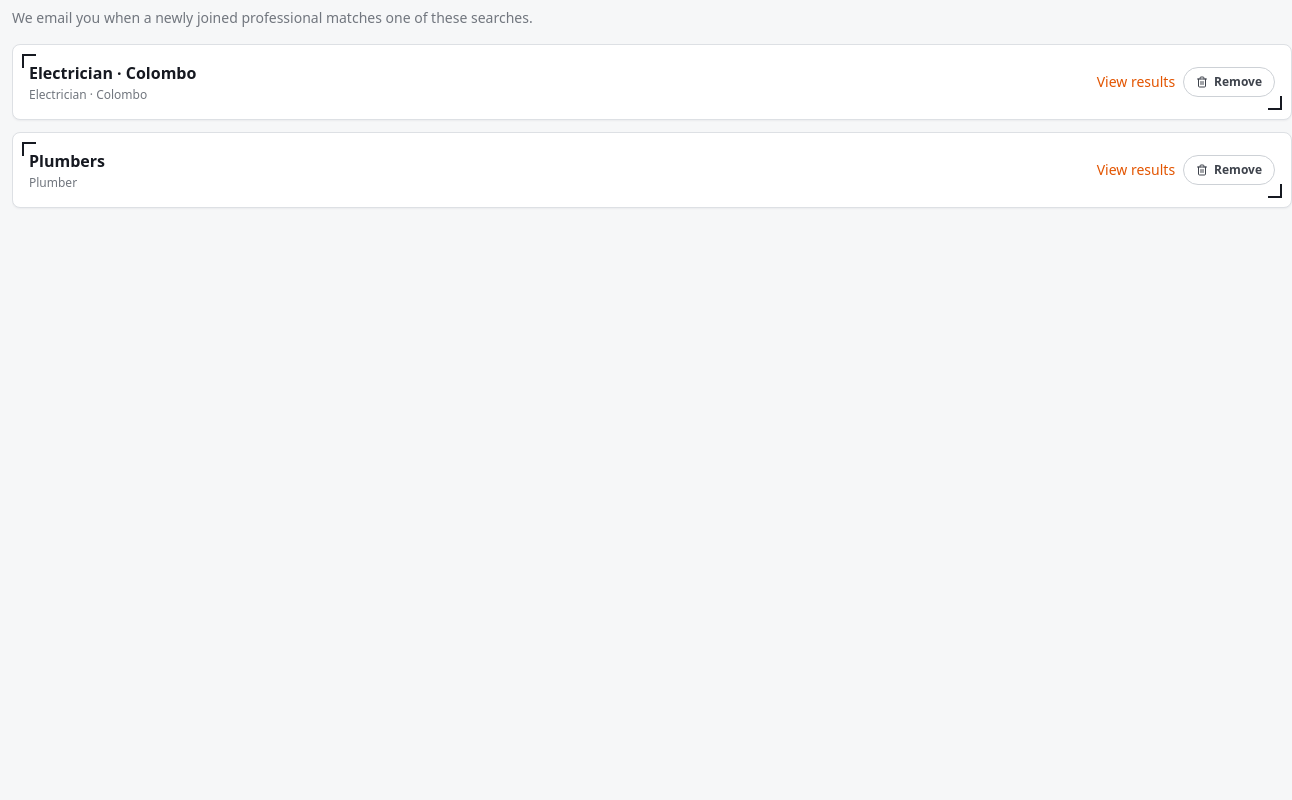
SavedSearches › restores the row and toasts on a failed delete
Click the button "Remove" in the row of "Plumbers" at [1229, 170], box [1183,155,1275,185]
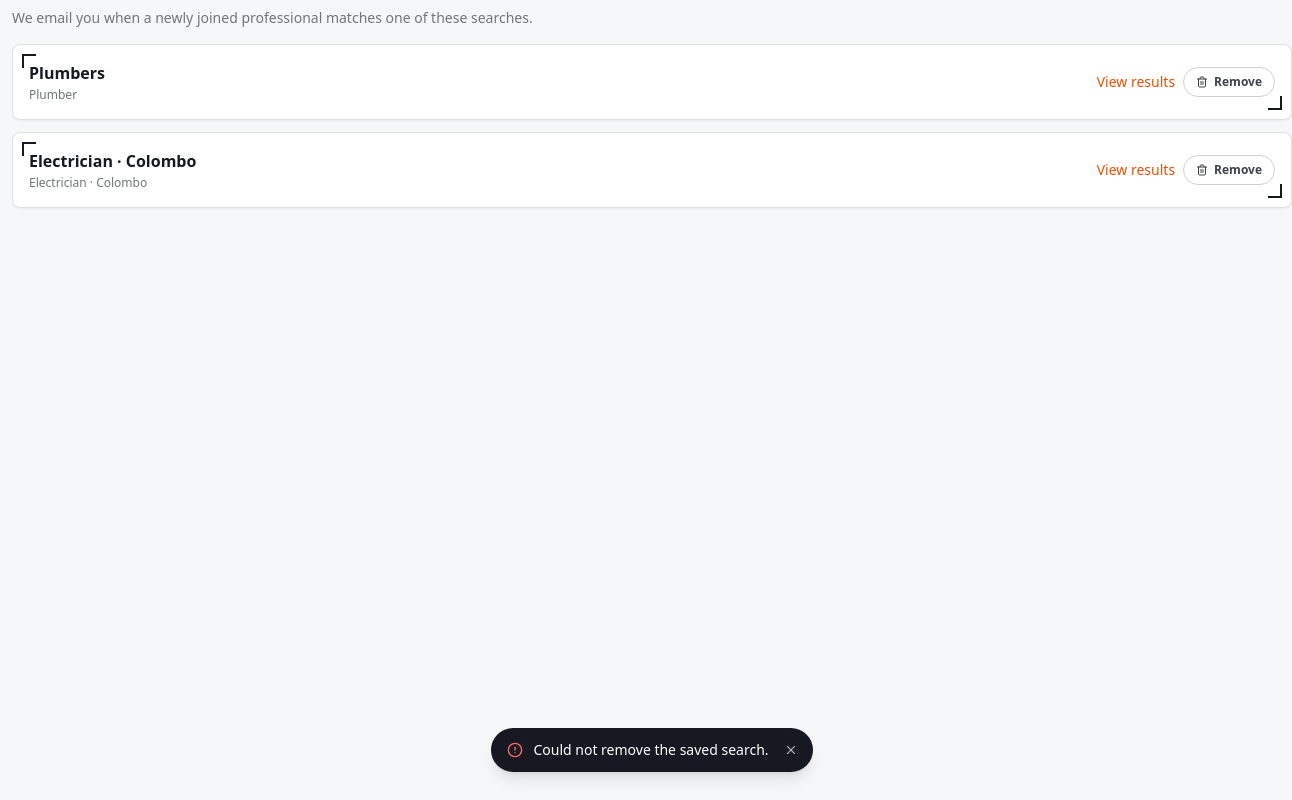
Expected: the text "Plumbers" is shown, [29,61,105,85]
Expected: the message reads "Could not remove the saved search.", [533,740,768,759]
